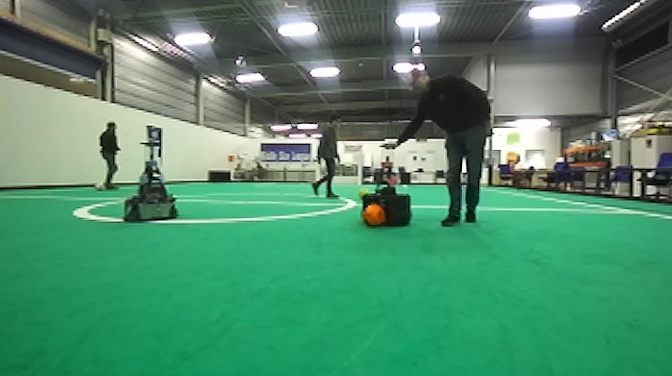ball: (359, 204, 386, 229), (93, 179, 108, 192), (358, 189, 370, 199)
goalpost: (356, 161, 363, 187)
human: (378, 67, 496, 231), (308, 113, 343, 201), (95, 120, 122, 194)
robot: (122, 138, 180, 225), (360, 142, 414, 230)
